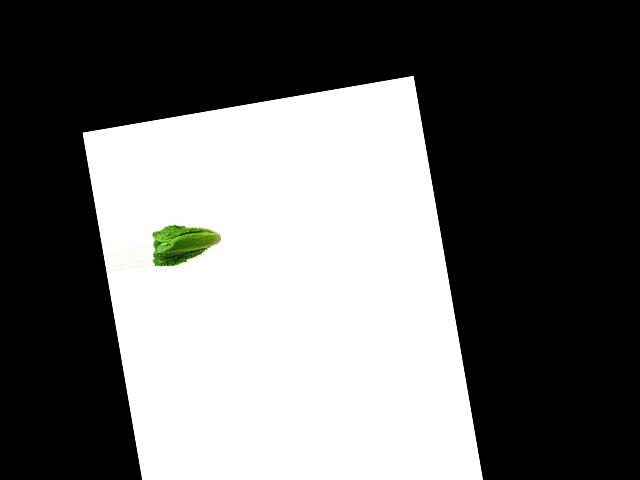lettuce: (146, 214, 225, 272)
